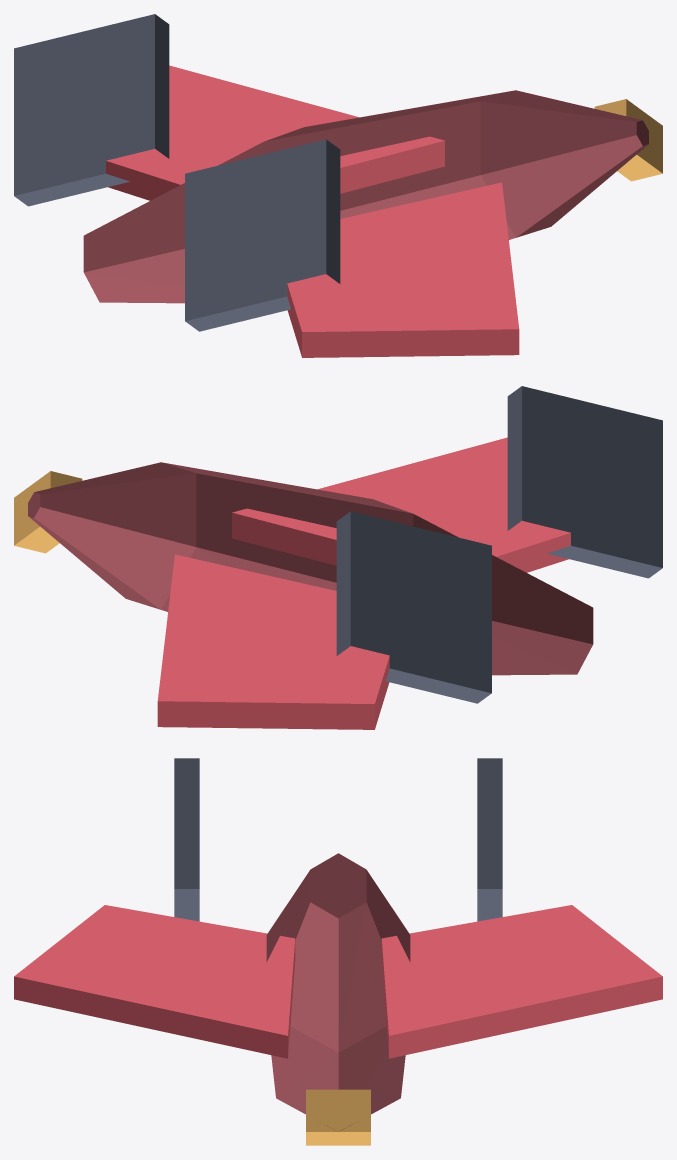
File: patrol-drone-a.glb
The picture shows the model from 3 angles, top to bottom: view 1: azimuth 30°, elevation 25°; view 2: azimuth 150°, elevation 25°; view 3: azimuth 270°, elevation 25°; orthographic projection. The views are drawn at different scales.
Visible parts, largest first — view 1: arms, rotors, frame, eye; view 2: arms, rotors, frame, eye; view 3: arms, frame, rotors, eye.
Boxes of the visible parts, <box> form: arms: <box>106,65,519,357</box>; rotors: <box>14,14,340,331</box>; frame: <box>83,90,648,303</box>; eye: <box>594,99,662,181</box>; arms: <box>157,437,570,729</box>; rotors: <box>336,386,662,703</box>; frame: <box>28,462,593,675</box>; eye: <box>14,471,82,553</box>; arms: <box>14,905,662,1058</box>; frame: <box>266,853,410,1131</box>; rotors: <box>174,758,502,921</box>; eye: <box>306,1089,370,1145</box>.
Size of the model in its own units: 1.55 by 0.64 by 1.8.
